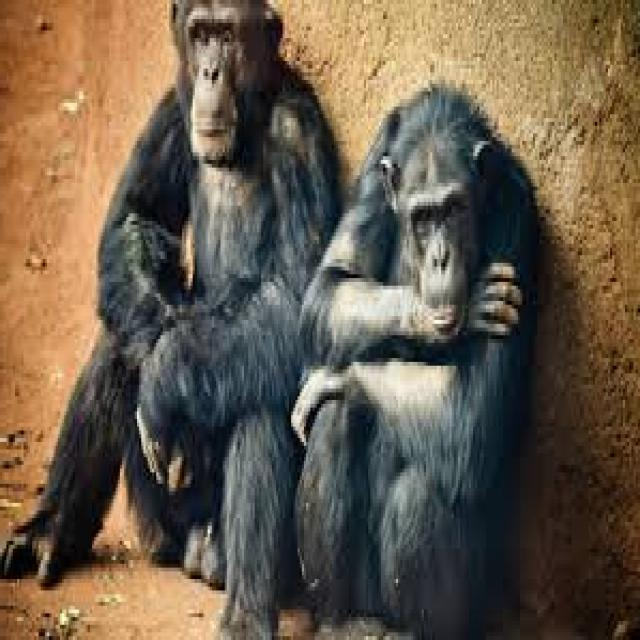chimpanzee: (2, 0, 342, 636), (293, 84, 537, 636)
